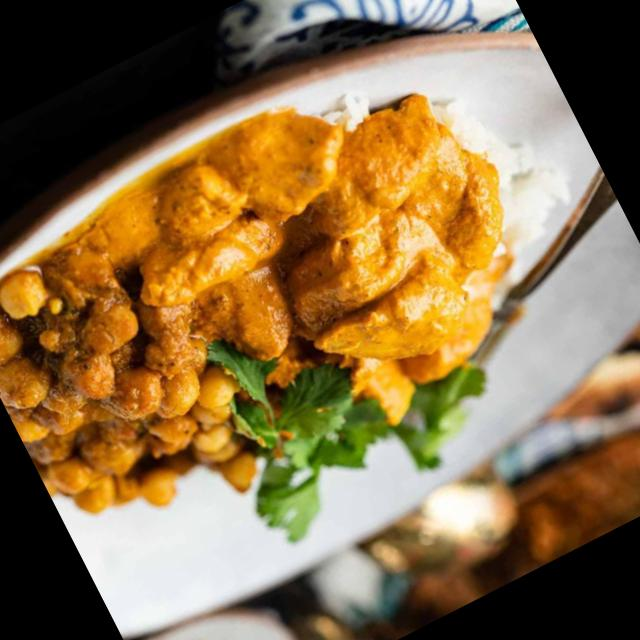chicken: (0, 72, 545, 594)
